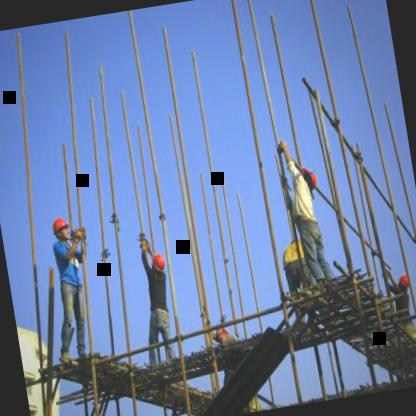helmet: (296, 161, 320, 197), (143, 248, 168, 278), (47, 212, 71, 243), (392, 269, 412, 295)
